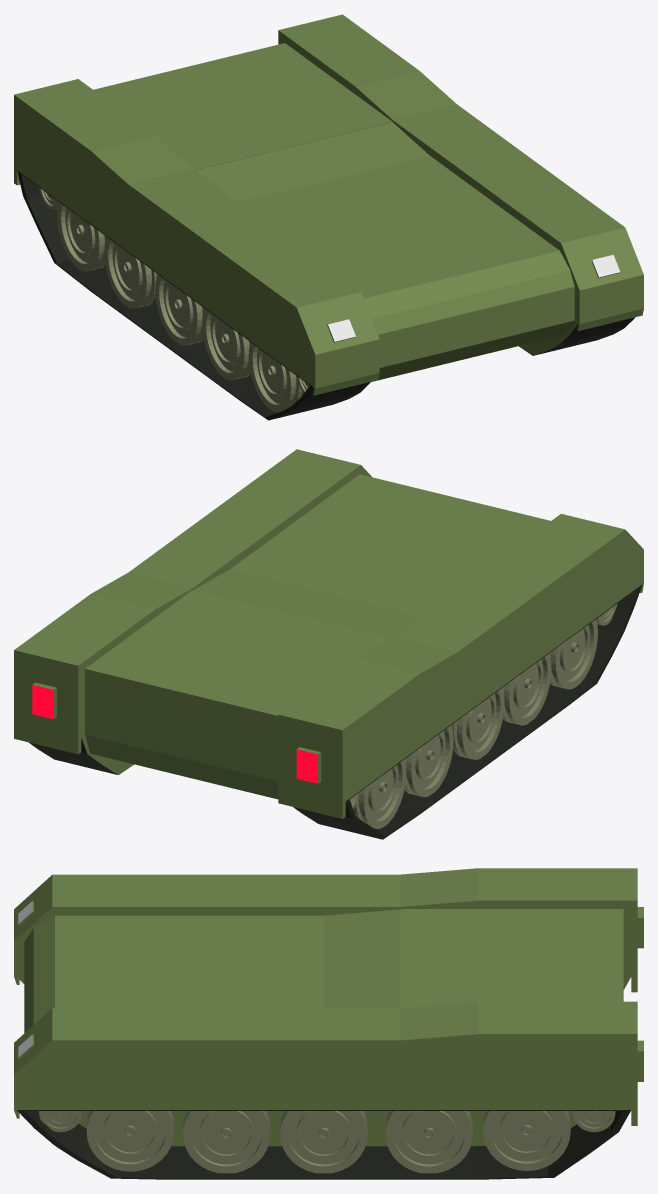
Rendered from T_Carroceria.fbx.
3 views of the same model, one above another, from view 1: azimuth 30°, elevation 25°; view 2: azimuth 150°, elevation 25°; view 3: azimuth 270°, elevation 25° (orthographic). The views are drawn at different scales.
Visible parts, largest first — view 1: Fuselaje; view 2: Fuselaje; view 3: Fuselaje.
Part boxes in pixels (bbox=[...]): Fuselaje: bbox=[14, 14, 643, 420]; Fuselaje: bbox=[14, 449, 643, 839]; Fuselaje: bbox=[14, 868, 643, 1179].
Bounding box in the file's own units: 511 × 209 × 820.
